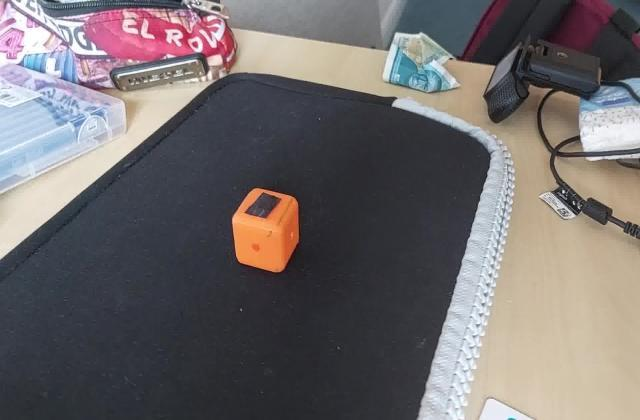black: (245, 194, 282, 221)
cube: (230, 185, 301, 273)
